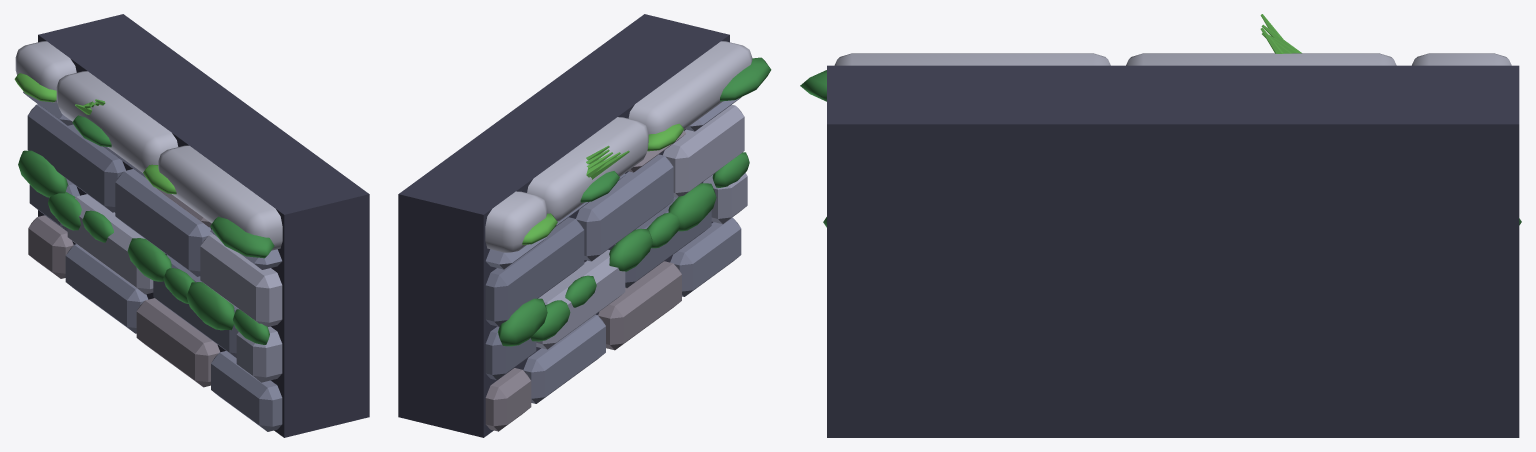
Rendered from magic_channel_wall.glb.
3 renders of one model, left to right at view 1: azimuth 30°, elevation 25°; view 2: azimuth 150°, elevation 25°; view 3: azimuth 270°, elevation 25°, orthographic. The views are drawn at different scales.
Visible parts, largest first — view 1: magic_channel_wall; view 2: magic_channel_wall; view 3: magic_channel_wall.
Boxes of the visible parts, box(x1,y1,x2,y2) form: magic_channel_wall: box(14, 14, 369, 437); magic_channel_wall: box(398, 14, 771, 437); magic_channel_wall: box(800, 14, 1521, 437).
Bounding box in the file's own units: 0.3281 × 0.5238 × 1.04.
